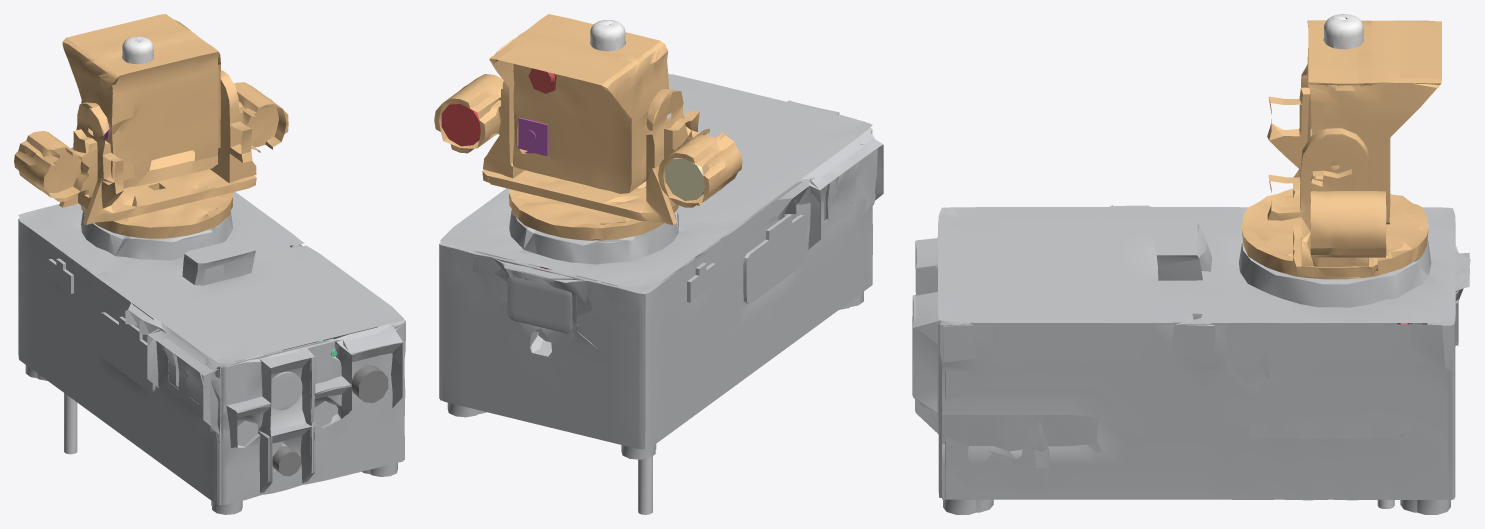
Rendered from gehaeuse_lite.glb.
The picture shows the model from 3 angles, left to right: view 1: azimuth 30°, elevation 25°; view 2: azimuth 150°, elevation 25°; view 3: azimuth 270°, elevation 25°; orthographic projection. The views are drawn at different scales.
Parts seen in each view (by area): view 1: lid, tub52, head, tub, tub53, yoke, lamp1, turntable, arm2, lamp2, plug, jacks (+6 smaller); view 2: tub, lid, tub52, head, tub53, yoke, turntable, lamp1, wplug, lamp2, plug, plug52 (+10 smaller); view 3: tub, lid, tub52, tub53, head, side, turntable, lamp2, arm2, yoke, diff52.
Boxes of the visible parts, x1=… form: lid: x1=18, y1=192, x2=403, y2=363; tub52: x1=18, y1=219, x2=403, y2=505; head: x1=62, y1=14, x2=219, y2=188; tub: x1=18, y1=218, x2=405, y2=504; tub53: x1=18, y1=218, x2=405, y2=505; yoke: x1=59, y1=102, x2=256, y2=224; lamp1: x1=14, y1=129, x2=97, y2=201; turntable: x1=81, y1=192, x2=232, y2=238; arm2: x1=210, y1=70, x2=256, y2=182; lamp2: x1=234, y1=82, x2=288, y2=152; plug: x1=112, y1=324, x2=155, y2=392; jacks: x1=352, y1=365, x2=388, y2=402; tub: x1=439, y1=133, x2=877, y2=448; lid: x1=440, y1=74, x2=872, y2=290; tub52: x1=441, y1=127, x2=883, y2=449; head: x1=490, y1=14, x2=668, y2=193; tub53: x1=440, y1=100, x2=883, y2=448; yoke: x1=482, y1=89, x2=703, y2=225; turntable: x1=509, y1=189, x2=678, y2=240; lamp1: x1=658, y1=118, x2=742, y2=207; wplug: x1=507, y1=276, x2=572, y2=333; lamp2: x1=434, y1=74, x2=503, y2=153; plug: x1=761, y1=214, x2=806, y2=289; plug52: x1=743, y1=219, x2=797, y2=304; tub: x1=912, y1=291, x2=1455, y2=500; lid: x1=938, y1=207, x2=1455, y2=322; tub52: x1=912, y1=216, x2=1469, y2=499; tub53: x1=913, y1=205, x2=1470, y2=498; head: x1=1307, y1=20, x2=1441, y2=141; side: x1=1307, y1=83, x2=1439, y2=224; turntable: x1=1242, y1=188, x2=1428, y2=279; lamp2: x1=1310, y1=169, x2=1386, y2=257; arm2: x1=1267, y1=128, x2=1369, y2=266; yoke: x1=1267, y1=64, x2=1377, y2=276; diff52: x1=1323, y1=14, x2=1363, y2=49.
Bounding box in the file's own units: 0.1267 × 0.2026 × 0.1978.
